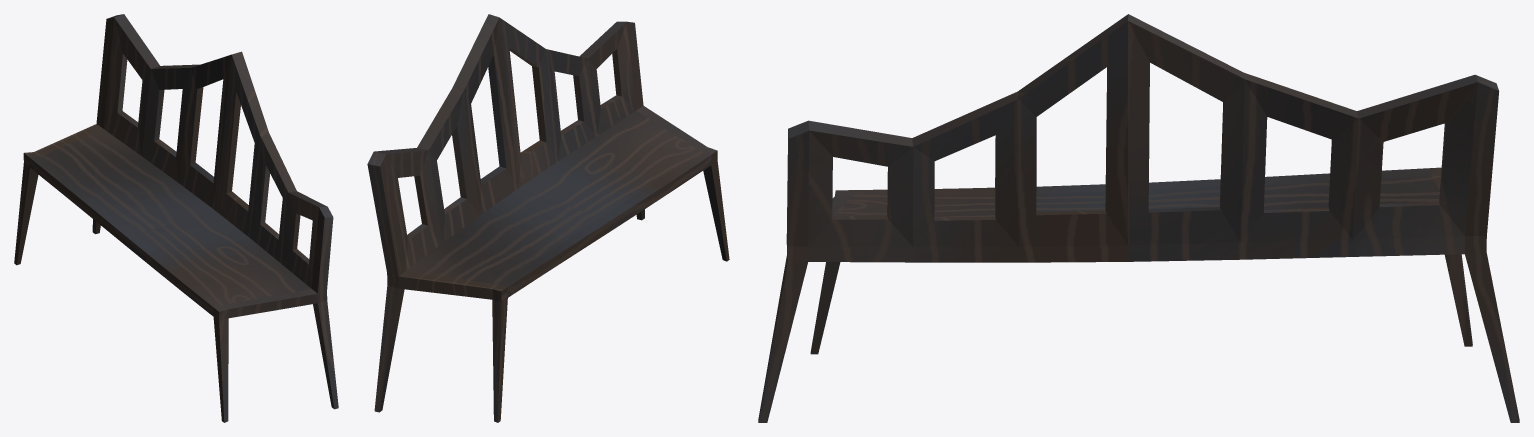
The model's file is Bench.fbx.
3 renders of one model, left to right at view 1: azimuth 30°, elevation 25°; view 2: azimuth 150°, elevation 25°; view 3: azimuth 270°, elevation 25°, orthographic. The views are drawn at different scales.
Visible parts, largest first — view 1: Bench; view 2: Bench; view 3: Bench.
Boxes of the visible parts, x1=… form: Bench: x1=14, y1=14, x2=338, y2=422; Bench: x1=367, y1=14, x2=729, y2=422; Bench: x1=758, y1=14, x2=1519, y2=422.
Size of the model in its own units: 50.42 by 109 by 178.
